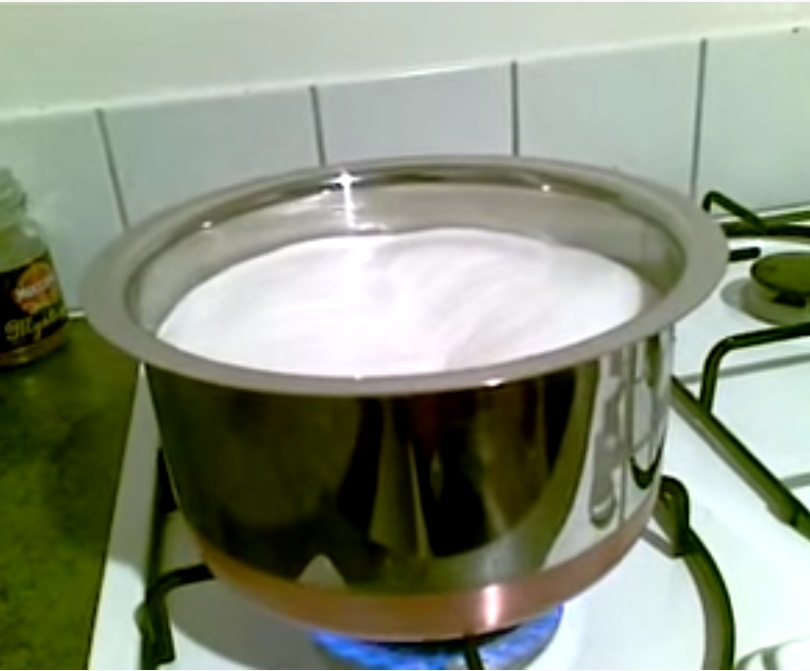Steaming: (85, 147, 694, 629)
